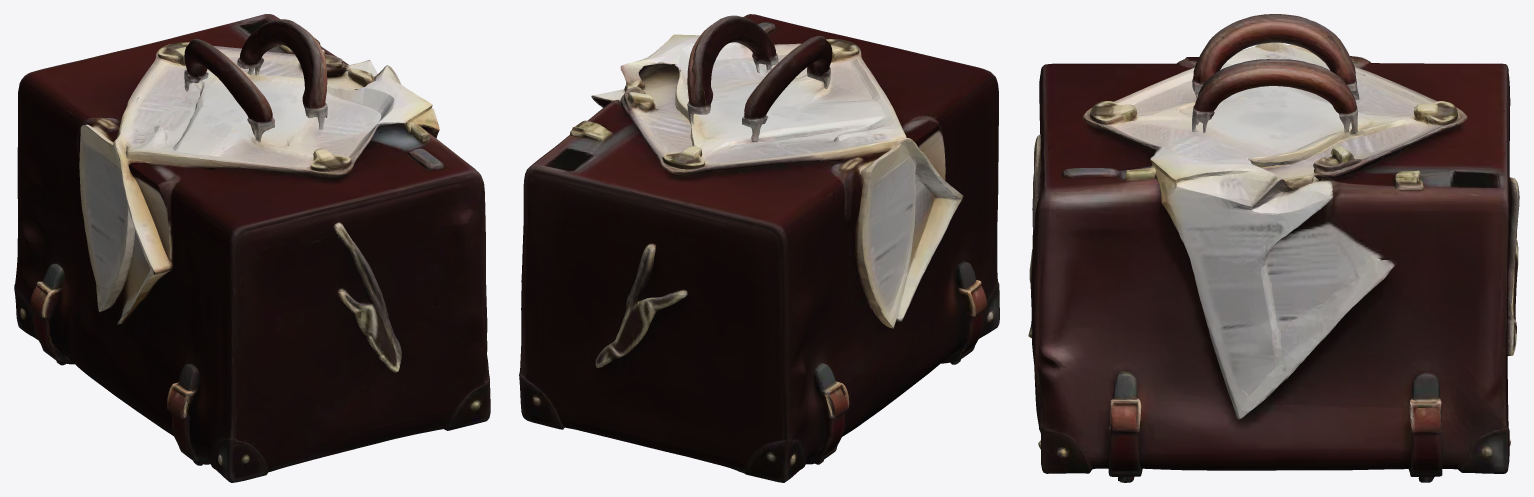
The model's file is briefcase-low.glb.
3 renders of one model, left to right at view 1: azimuth 30°, elevation 25°; view 2: azimuth 150°, elevation 25°; view 3: azimuth 270°, elevation 25°, orthographic. The views are drawn at different scales.
Visible parts, largest first — view 1: geometry_0; view 2: geometry_0; view 3: geometry_0.
Part boxes in pixels (x1=…): geometry_0: x1=14, y1=14, x2=490, y2=482; geometry_0: x1=519, y1=14, x2=999, y2=482; geometry_0: x1=1028, y1=14, x2=1519, y2=482.
Size of the model in its own units: 0.7689 by 0.8561 by 0.9947.
1 material, 1 textured.
